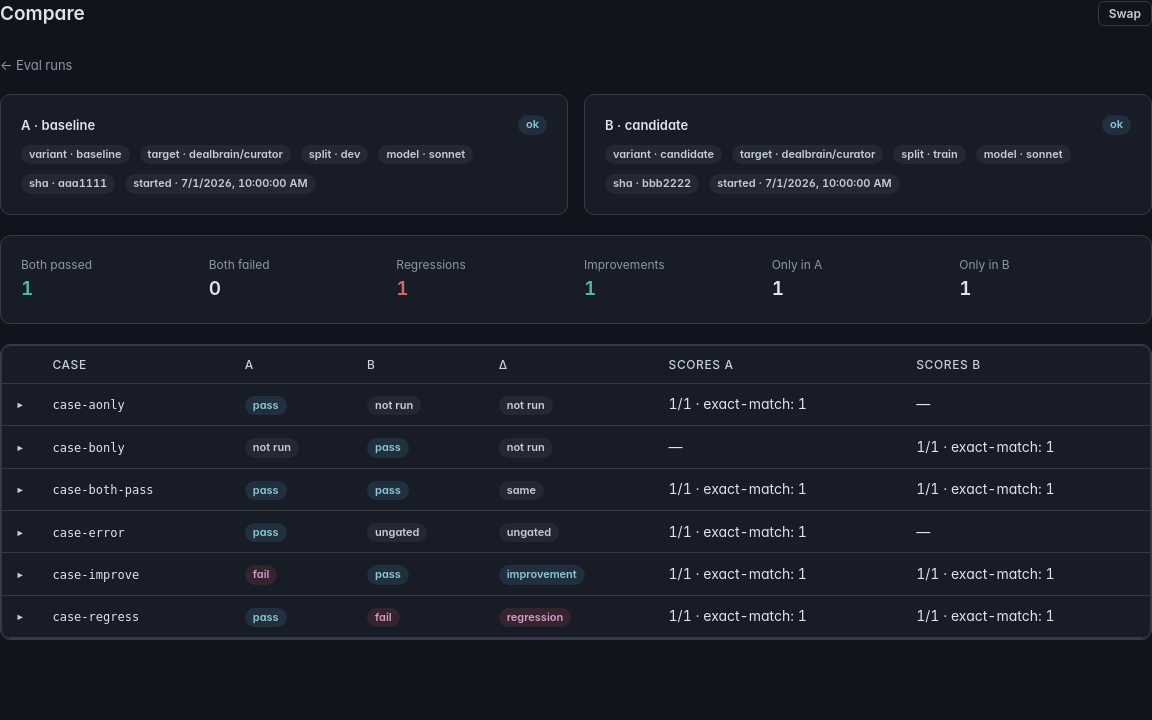
Test: EvalComparePage › expanding a one-sided row shows 'not run in this eval run' for the absent side
The image size is (1152, 720).
Click the text "case-aonly" at (89, 405), box [52,398,125,412]
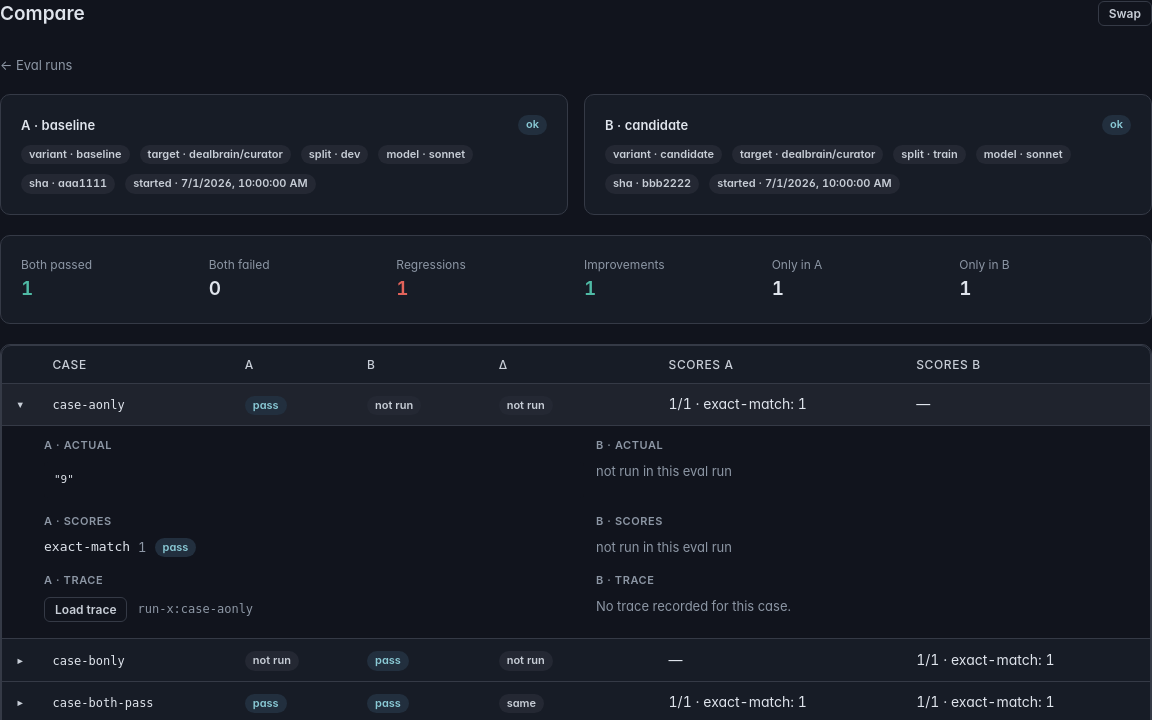
Expected: the text "not run in this eval run" in the row of "\"9\"" is shown, [596,463,732,479]
